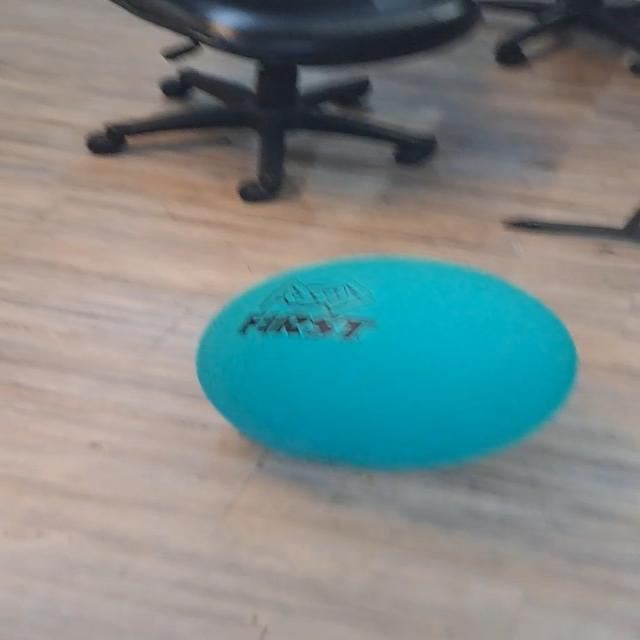ALGAE: (192, 252, 580, 472)
